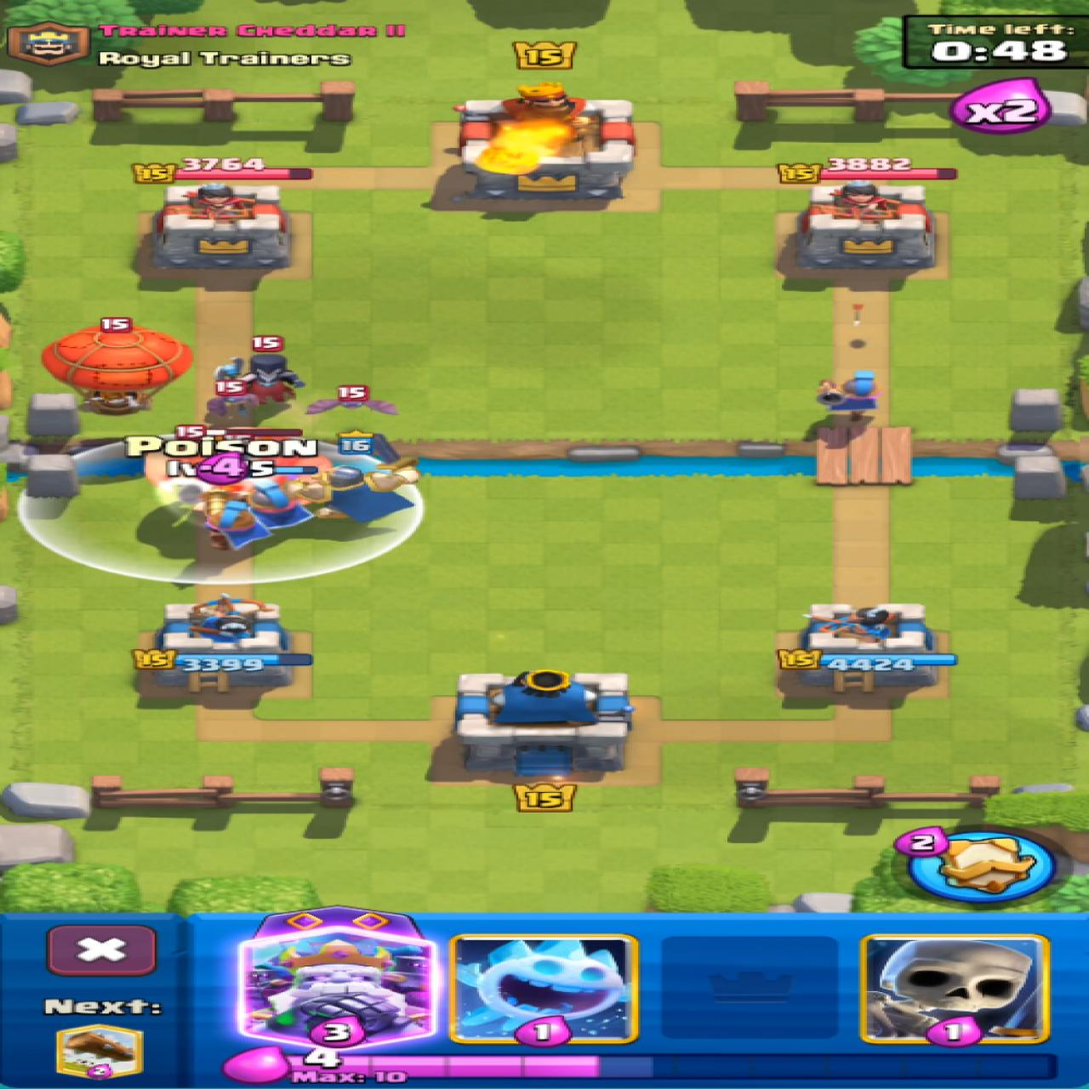Enemy-Balloon: (44, 317, 187, 414)
Enemy-Bat: (307, 386, 396, 414), (209, 379, 255, 414)
Enemy-Giant: (146, 428, 335, 486)
Enemy-KingTower: (457, 73, 636, 198)
Enemy-NightWitch: (216, 354, 303, 402)
Enemy-PrincessTower: (797, 180, 932, 268), (155, 182, 287, 266)
